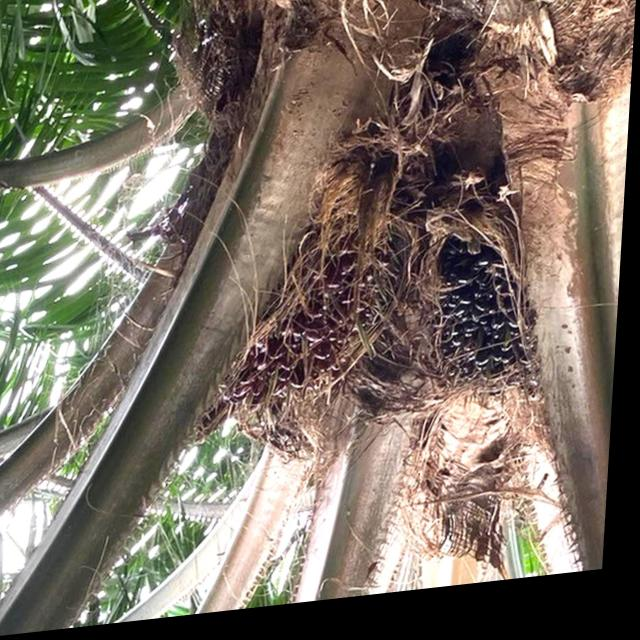ripe: (208, 177, 401, 431)
